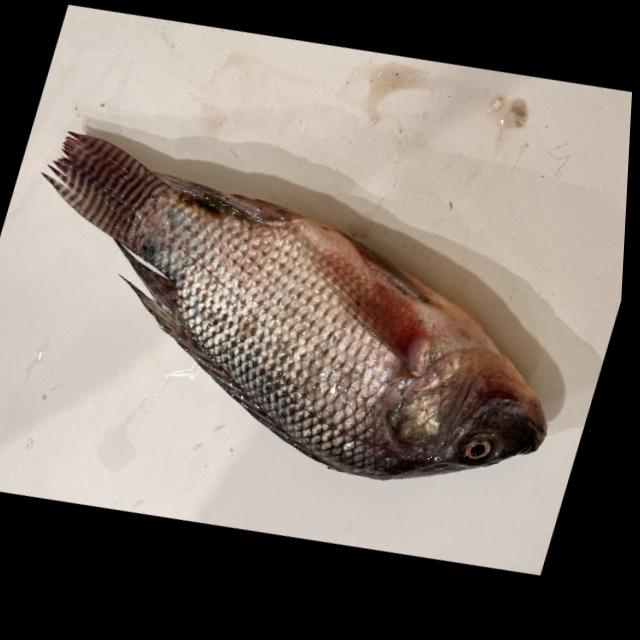Tilapia: (0, 72, 617, 555)
